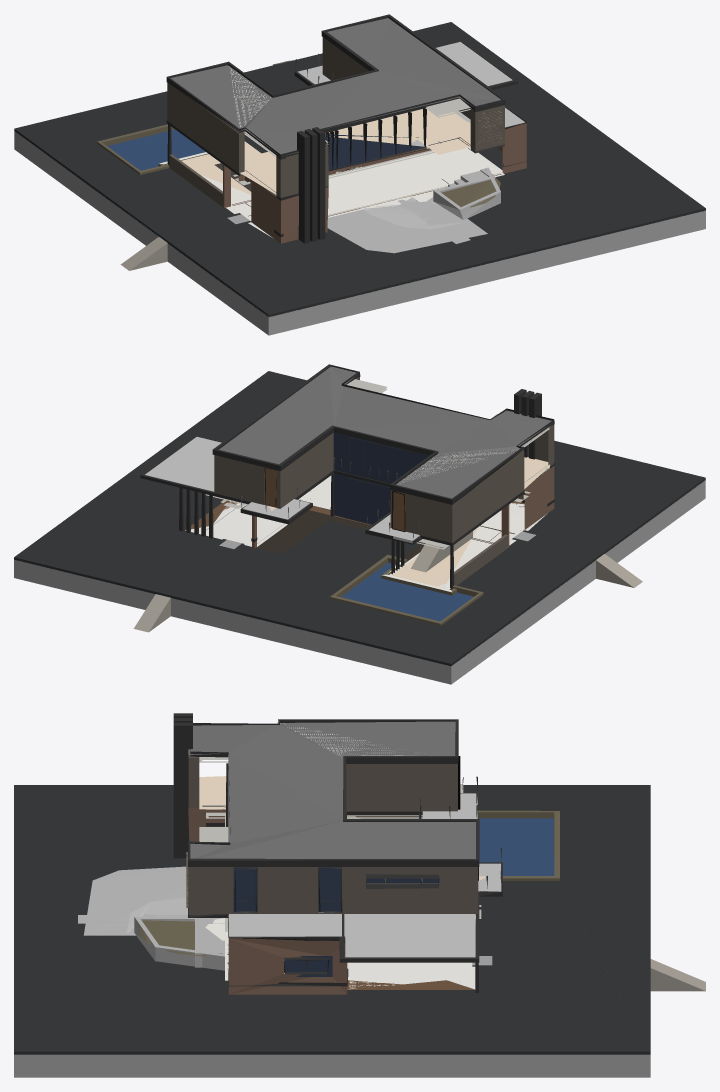
The model's file is pool-villa.dress-v1.lod1.glb.
The picture shows the model from 3 angles, top to bottom: view 1: azimuth 30°, elevation 25°; view 2: azimuth 150°, elevation 25°; view 3: azimuth 270°, elevation 25°; orthographic projection. The views are drawn at different scales.
Visible parts, largest first — view 1: Box001_Material #8_0; view 2: Box001_Material #8_0; view 3: Box001_Material #8_0.
Part boxes in pixels (x1=…): Box001_Material #8_0: x1=14, y1=14, x2=705, y2=335; Box001_Material #8_0: x1=14, y1=364, x2=705, y2=684; Box001_Material #8_0: x1=14, y1=713, x2=705, y2=1077.
Bounding box in the file's own units: 37.75 × 9.63 × 38.05.
